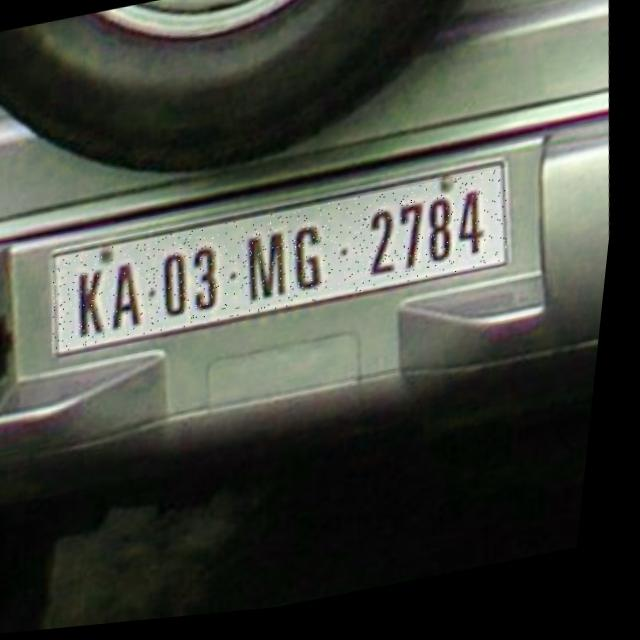license_plate: (49, 177, 522, 356)
